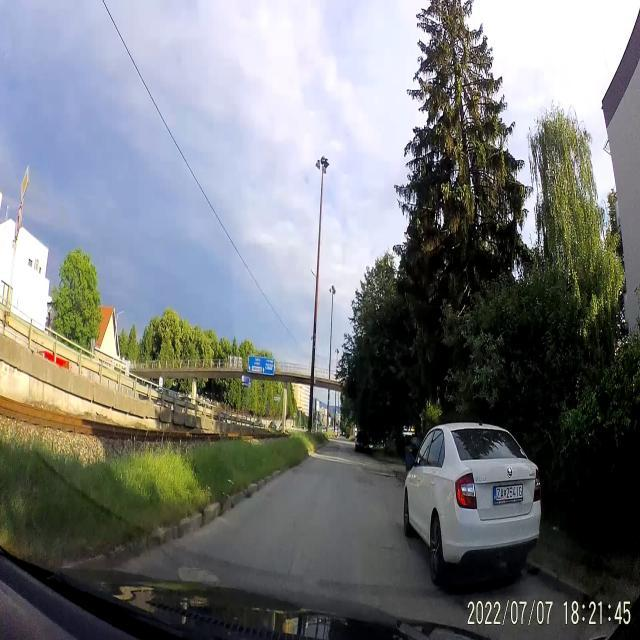Pothole: (173, 552, 224, 582)
